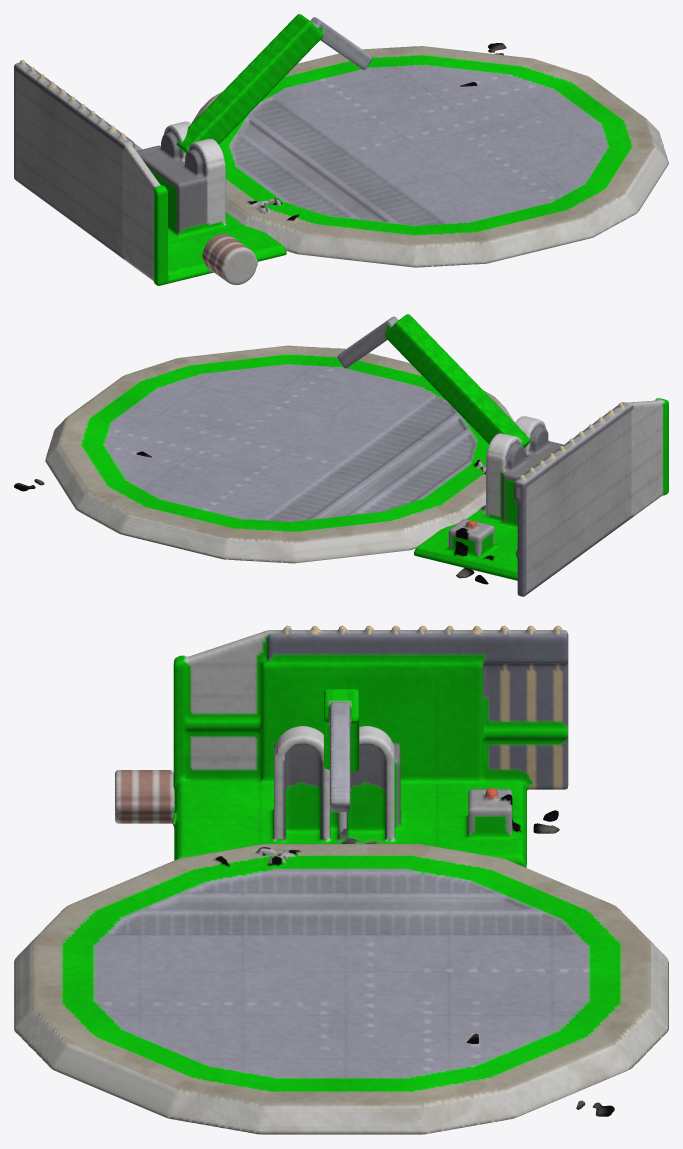
The model's file is service-depot.glb.
The picture shows the model from 3 angles, top to bottom: view 1: azimuth 30°, elevation 25°; view 2: azimuth 150°, elevation 25°; view 3: azimuth 270°, elevation 25°; orthographic projection. The views are drawn at different scales.
Parts seen in each view (by area): view 1: pad, depot, arm, pad-damaged; view 2: pad, depot, arm, depot-damaged, pad-damaged; view 3: pad, depot, arm, pad-damaged, depot-damaged.
Boxes of the visible parts, <box> form: pad: <box>191,46,668,267</box>; depot: <box>14,60,286,285</box>; arm: <box>176,14,372,153</box>; pad-damaged: <box>227,43,547,228</box>; pad: <box>45,345,514,563</box>; depot: <box>414,398,668,596</box>; arm: <box>337,314,530,447</box>; depot-damaged: <box>447,451,500,584</box>; pad-damaged: <box>14,420,487,491</box>; pad: <box>14,844,668,1134</box>; depot: <box>115,625,568,867</box>; arm: <box>324,689,359,812</box>; pad-damaged: <box>204,846,614,1116</box>; depot-damaged: <box>331,684,559,843</box>.
Bounding box in the file's own units: 2.65 × 0.8182 × 2.09.
